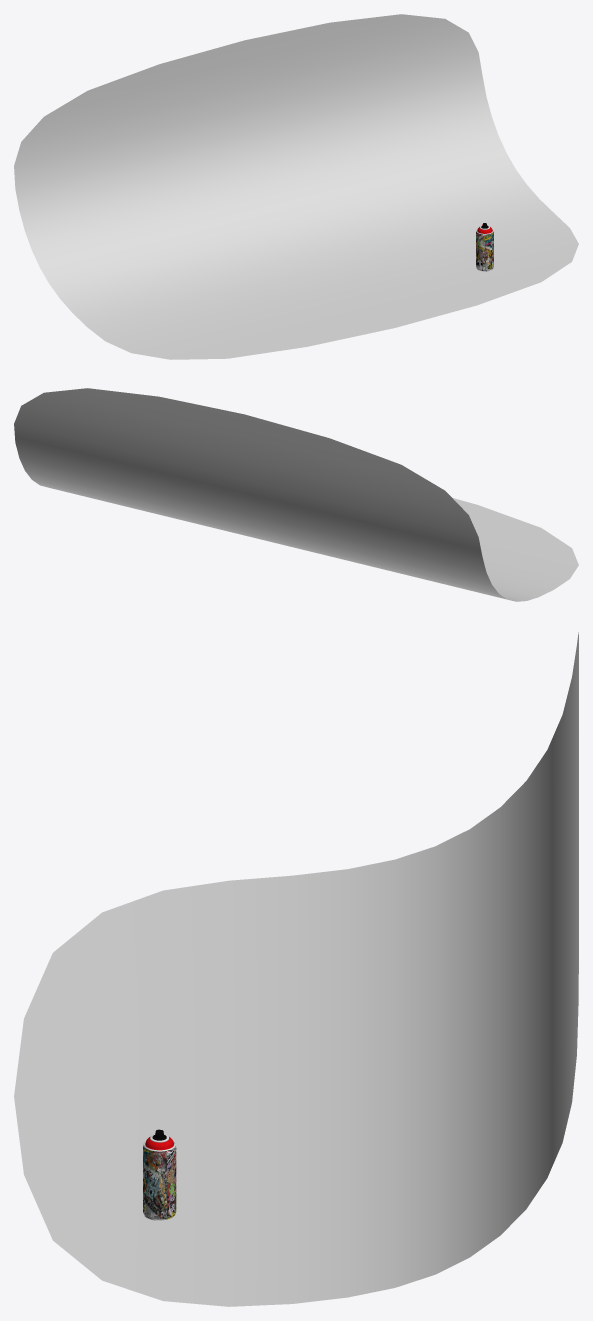
The model's file is Spray_Color_fbx.fbx.
The picture shows the model from 3 angles, top to bottom: view 1: azimuth 30°, elevation 25°; view 2: azimuth 150°, elevation 25°; view 3: azimuth 270°, elevation 25°; orthographic projection. The views are drawn at different scales.
Visible parts, largest first — view 1: Plane, SprayPaint; view 2: Plane; view 3: Plane, SprayPaint.
Part boxes in pixels (<box>): Plane: <box>14,14,578,359</box>; SprayPaint: <box>476,223,493,271</box>; Plane: <box>14,388,578,601</box>; Plane: <box>14,632,578,1306</box>; SprayPaint: <box>143,1129,176,1220</box>.
Bounding box in the file's own units: 638 × 232 × 356.
5 materials, 1 textured.
